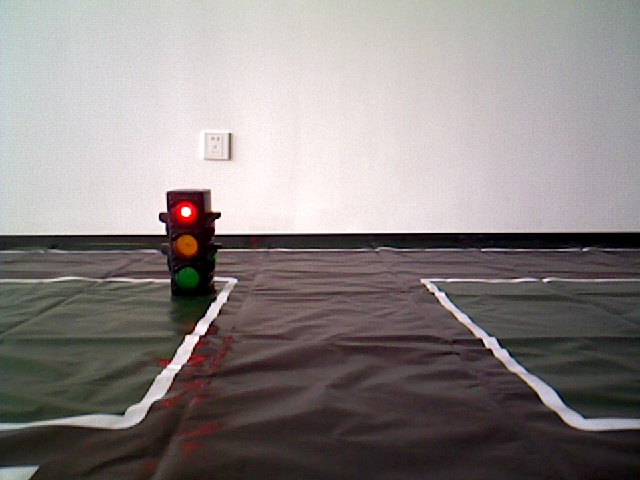red: (168, 193, 214, 294)
